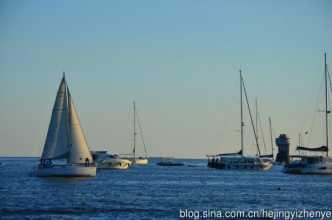fanchuan: (196, 66, 277, 170), (29, 69, 99, 177), (279, 49, 332, 177), (96, 100, 147, 168)
